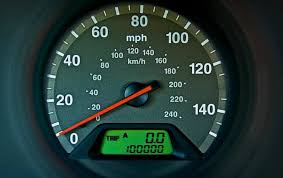Digital_Meter: (99, 128, 173, 159)
